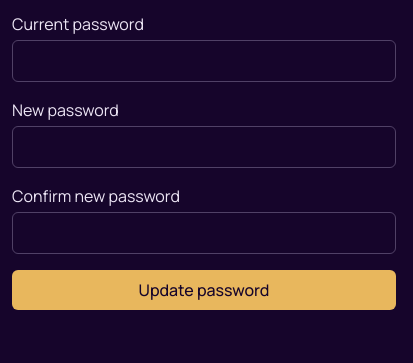
Test: a non-credential re-verification error surfaces verbatim, not as 'incorrect'
In the password field labelled "Current password": (204, 61) top-left (12, 40), bottom-right (396, 82), type "Sup3r$ecret1"
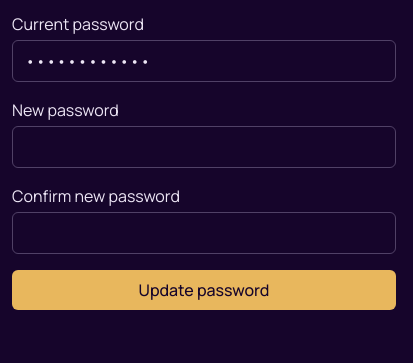
In the password field labelled "New password": (204, 147) top-left (12, 126), bottom-right (396, 168), type "Br4nd$New2"
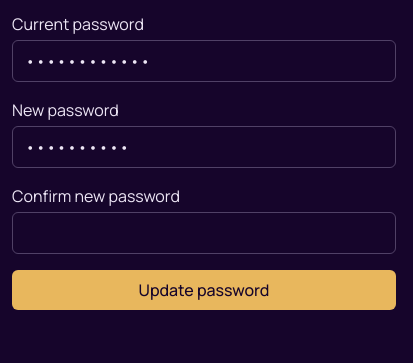
In the password field labelled "Confirm new password": (204, 233) top-left (12, 212), bottom-right (396, 254), type "Br4nd$New2"
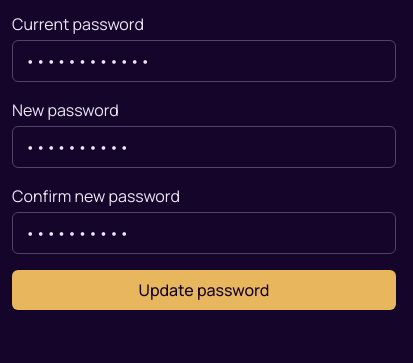
Click the button "Update password": (204, 290) top-left (12, 270), bottom-right (396, 310)
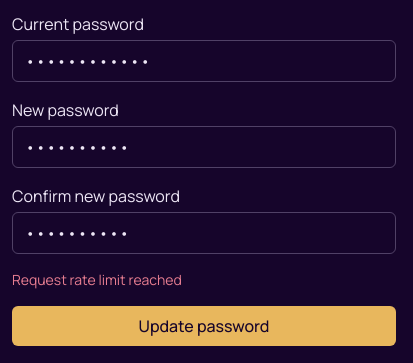
Now the text "Request rate limit reached" is shown, box top-left (12, 270), bottom-right (182, 289)
